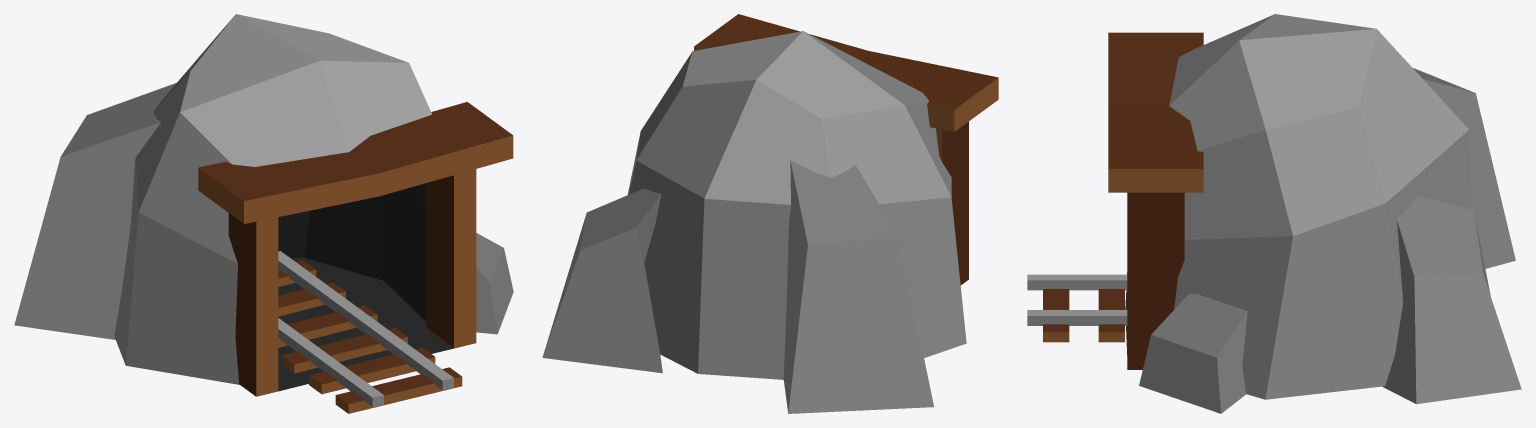
Rendered from mineshaft.glb.
3 views of the same model, side by side, from view 1: azimuth 30°, elevation 25°; view 2: azimuth 150°, elevation 25°; view 3: azimuth 270°, elevation 25° (orthographic). The views are drawn at different scales.
Visible parts, largest first — view 1: Mineshaft; view 2: Mineshaft; view 3: Mineshaft.
Part boxes in pixels (x1,y1,x2,y2): Mineshaft: (14, 14, 513, 413); Mineshaft: (542, 14, 998, 413); Mineshaft: (1027, 14, 1521, 413).
Size of the model in its own units: 1.44 by 0.9345 by 1.46.
Materials: 1 (1 with a texture image).
